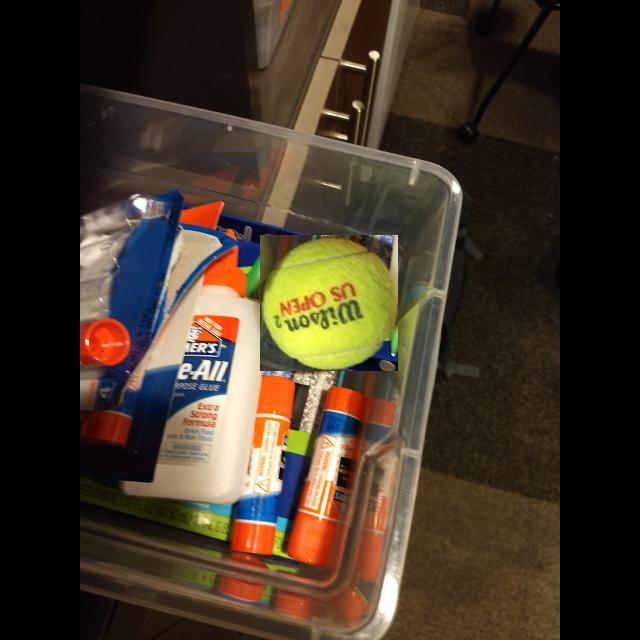tennis ball: (260, 235, 398, 371)
